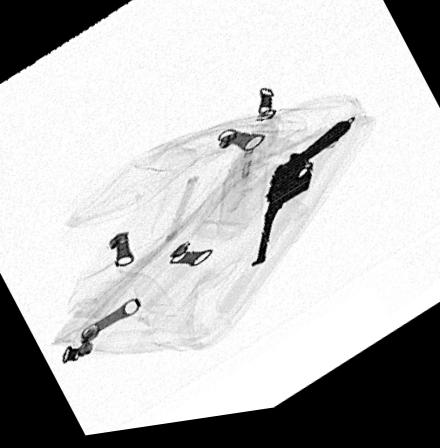Gun: (247, 129, 350, 277)
